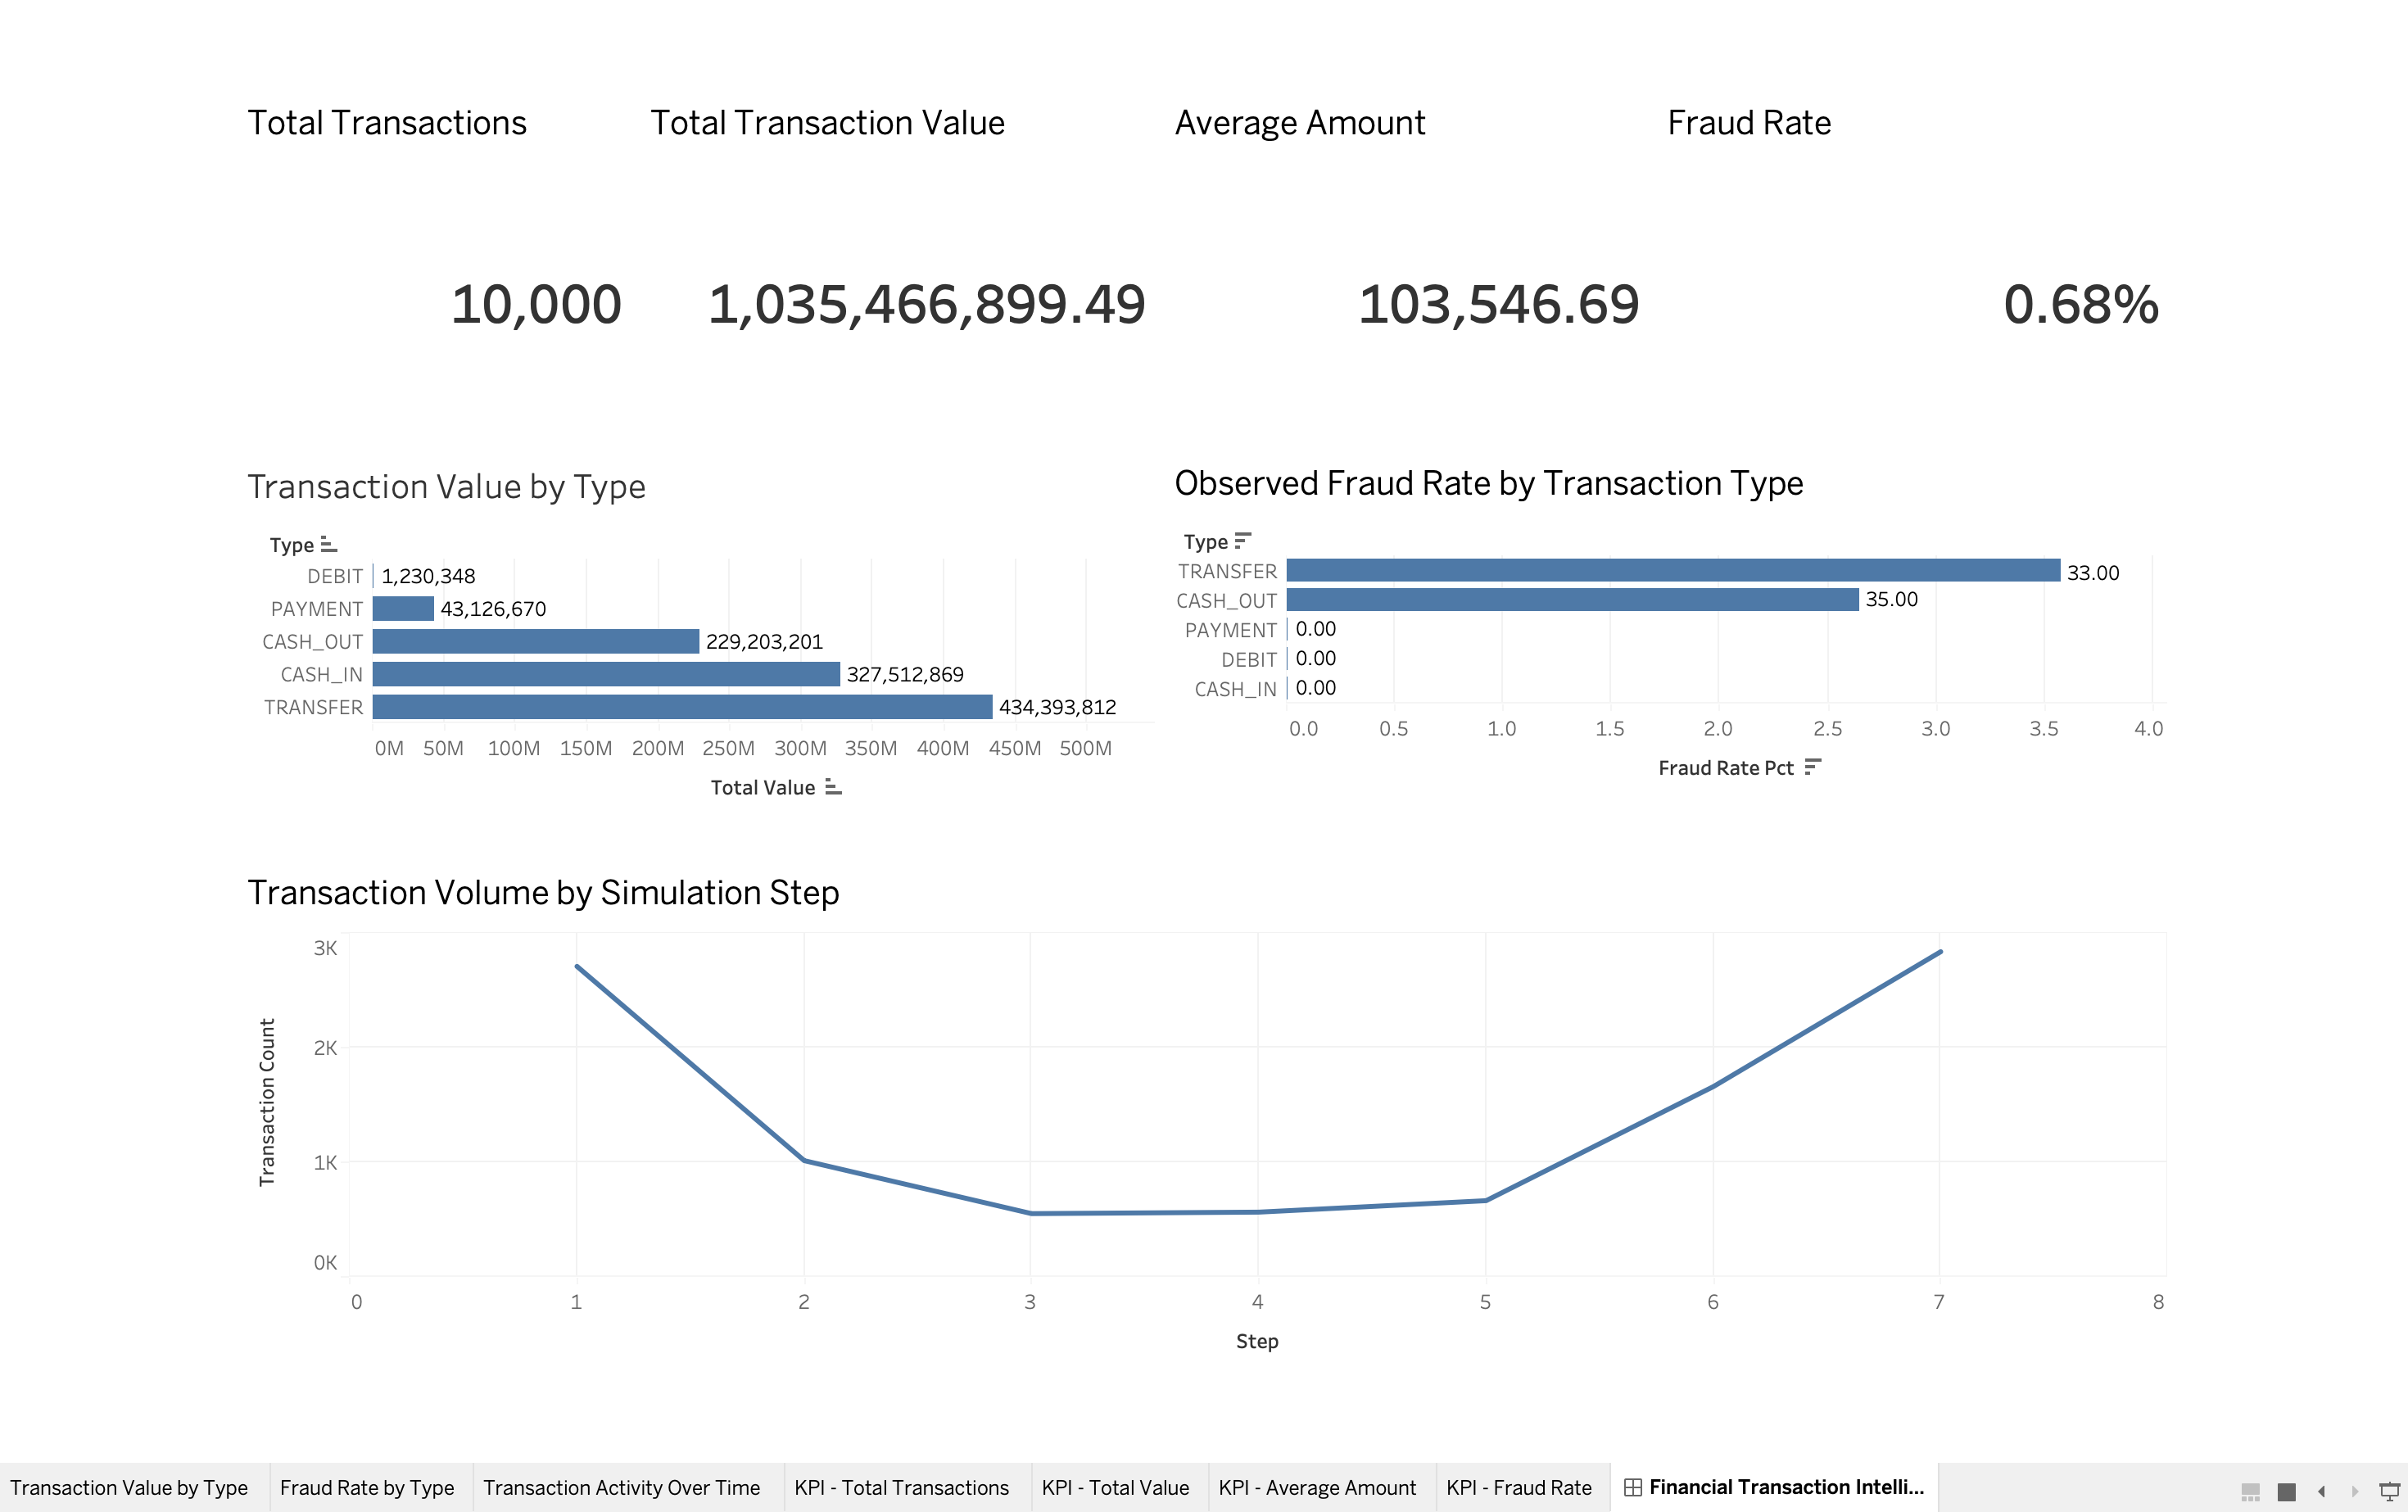

The page's visual inventory and layout, read from the dashboard file:
{"tool":"tableau","page":{"name":"Financial Transaction Intelligence Dashboard","canvas":[1200,800],"ordinal":0},"visuals":[{"type":"worksheet","title":"KPI - Total Transactions","mark":"Automatic","box":[8,8,246,220]},{"type":"worksheet","title":"KPI - Total Value","mark":"Automatic","box":[254,8,320,220]},{"type":"worksheet","title":"KPI - Average Amount","mark":"Automatic","box":[574,8,301,220]},{"type":"worksheet","title":"KPI - Fraud Rate","mark":"Automatic","box":[875,8,317,220]},{"type":"worksheet","title":"Transaction Value by Type","mark":"Automatic","rows":["type"],"cols":["total_value"],"box":[8,228,566,250]},{"type":"worksheet","title":"Fraud Rate by Type","mark":"Automatic","rows":["type"],"cols":["fraud_rate_pct"],"box":[574,228,618,250]},{"type":"worksheet","title":"Transaction Activity Over Time","mark":"Automatic","rows":["transaction_count"],"cols":["step"],"box":[8,478,1184,314]}]}

Visuals, with their boxes on the page's 1200x800 design canvas (x1, y1, x2, y2). These are canvas units, not pixel positions in the 2408x1512 screenshot, which may show the page scaled, cropped or inside an application window:
"KPI - Total Transactions" worksheet: {"left": 8, "top": 8, "right": 254, "bottom": 228}
"KPI - Total Value" worksheet: {"left": 254, "top": 8, "right": 574, "bottom": 228}
"KPI - Average Amount" worksheet: {"left": 574, "top": 8, "right": 875, "bottom": 228}
"KPI - Fraud Rate" worksheet: {"left": 875, "top": 8, "right": 1192, "bottom": 228}
"Transaction Value by Type" worksheet: {"left": 8, "top": 228, "right": 574, "bottom": 478}
"Fraud Rate by Type" worksheet: {"left": 574, "top": 228, "right": 1192, "bottom": 478}
"Transaction Activity Over Time" worksheet: {"left": 8, "top": 478, "right": 1192, "bottom": 792}
